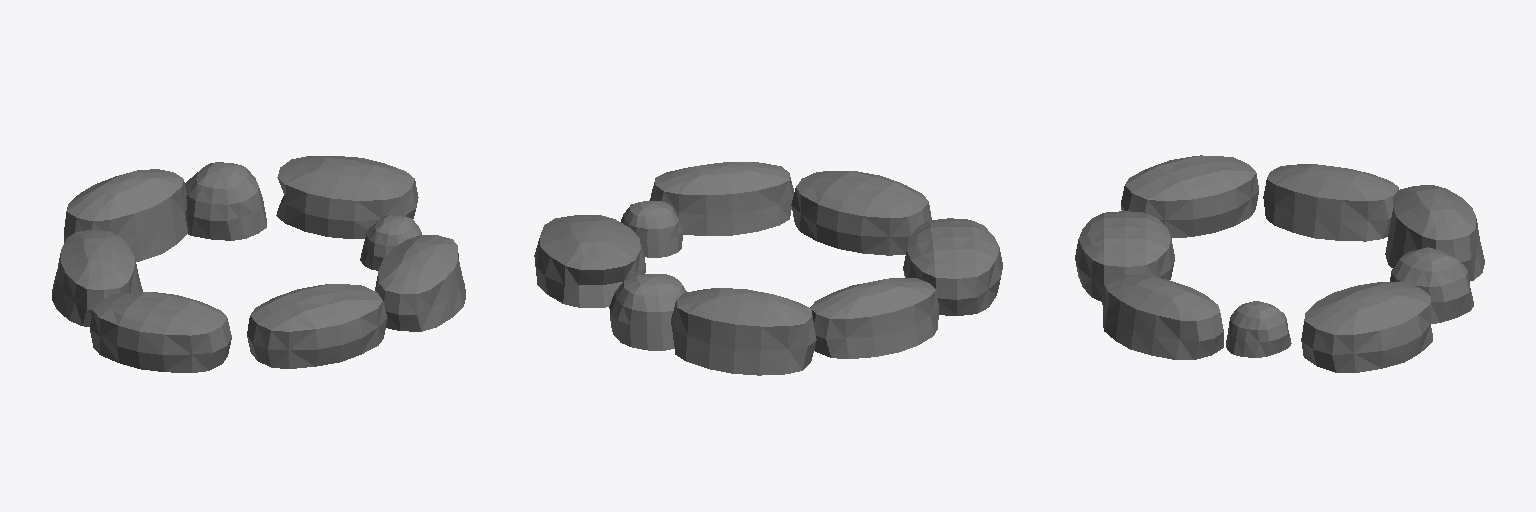
The model's file is pierres.obj.
3 renders of one model, left to right at view 1: azimuth 30°, elevation 25°; view 2: azimuth 150°, elevation 25°; view 3: azimuth 270°, elevation 25°, orthographic.
Visible parts, largest first — view 1: Campfire_meshId0_name; view 2: Campfire_meshId0_name; view 3: Campfire_meshId0_name.
Part boxes in pixels (x1,y1,x2,y2): Campfire_meshId0_name: (52, 156, 465, 372); Campfire_meshId0_name: (534, 162, 1002, 375); Campfire_meshId0_name: (1075, 155, 1484, 372).
Size of the model in its own units: 2 by 0.3258 by 1.88.